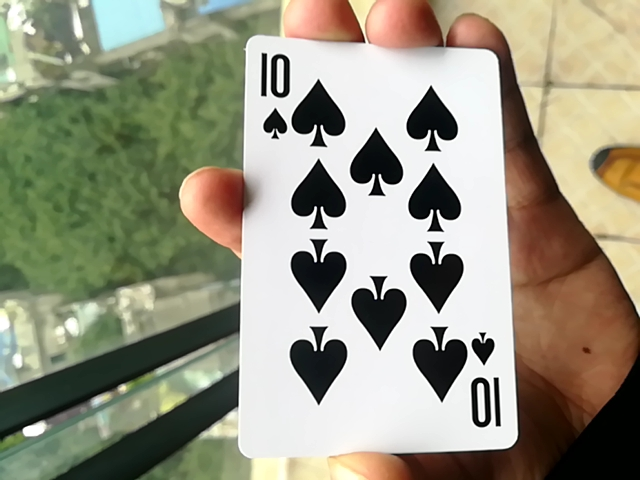ht 10: (230, 31, 508, 461)
